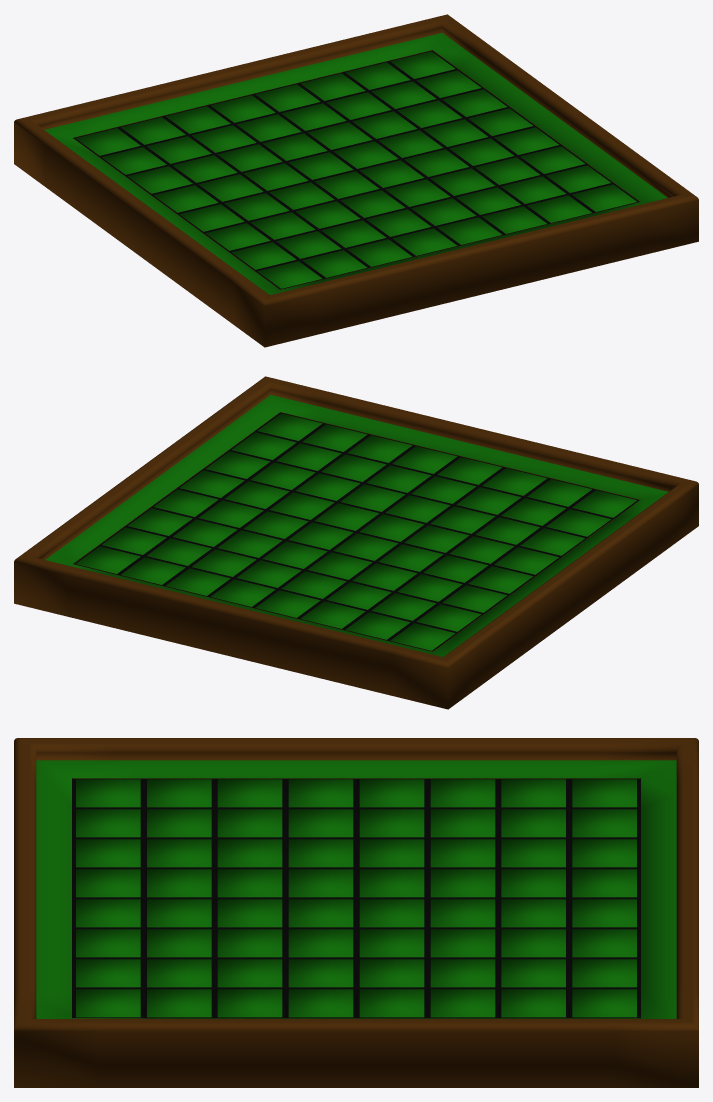
Rendered from Board_Type1.fbx.
3 views of the same model, one above another, from view 1: azimuth 30°, elevation 25°; view 2: azimuth 150°, elevation 25°; view 3: azimuth 270°, elevation 25° (orthographic). The views are drawn at different scales.
Visible parts, largest first — view 1: Cube; view 2: Cube; view 3: Cube.
Part boxes in pixels (box(x1,y1,x2,y2)): Cube: box(14, 14, 698, 347); Cube: box(14, 376, 698, 709); Cube: box(14, 738, 698, 1087).
Bounding box in the file's own units: 9.66 × 0.9704 × 9.66.
